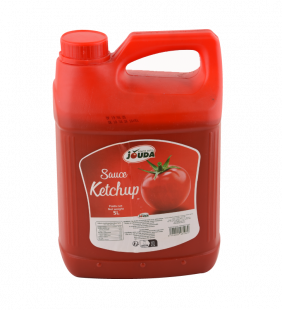JOUDA: (47, 24, 229, 284)
